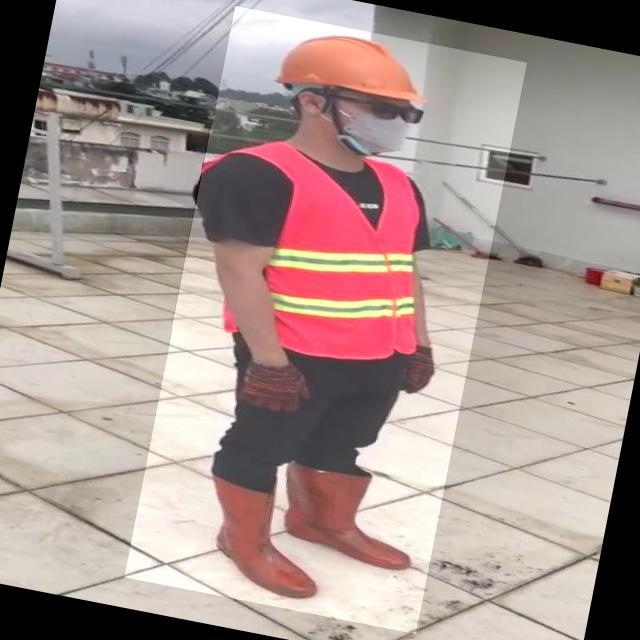Gloves: (238, 358, 317, 419), (400, 343, 443, 401)
Helmet: (265, 19, 446, 117)
Human: (125, 7, 529, 635)
Safety Boot: (188, 471, 339, 604), (278, 463, 425, 573)
Safety Vest: (171, 127, 450, 376)
